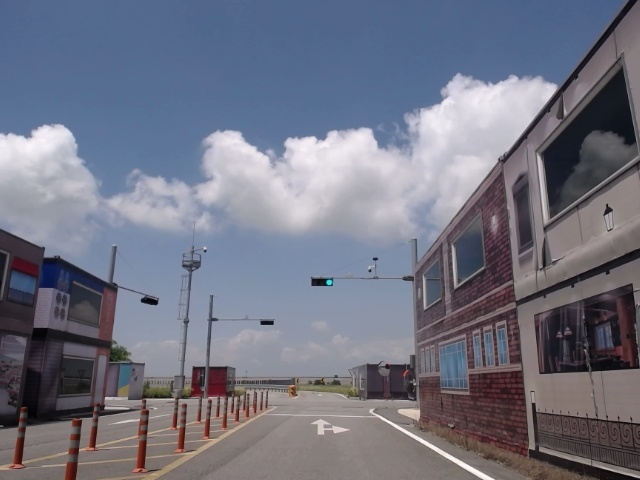green_3: (312, 279, 333, 286)
